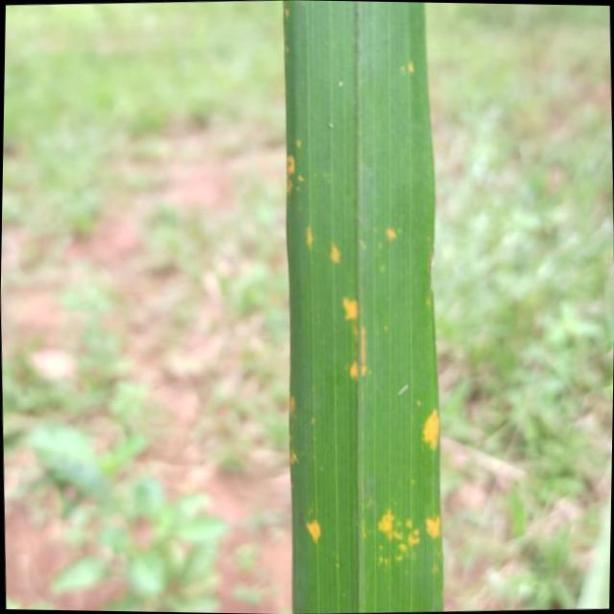Kalium: (280, 0, 444, 614)
